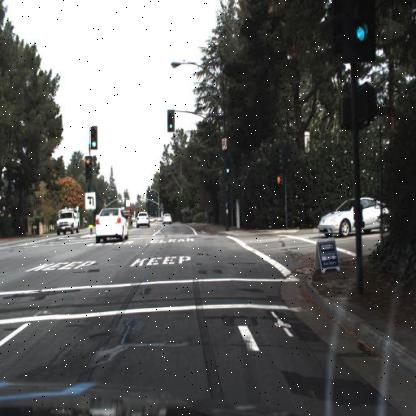car: (314, 192, 394, 244), (92, 204, 129, 244), (53, 200, 82, 236), (133, 209, 151, 230), (159, 206, 174, 228)
trafficLight-Green: (89, 124, 99, 152), (166, 109, 176, 136), (166, 117, 174, 137), (225, 159, 233, 177), (90, 136, 98, 152), (225, 160, 230, 178)
trafficLight-Red: (275, 172, 286, 188)
trafficLight-RedLeft: (82, 153, 92, 174), (84, 154, 92, 179)
